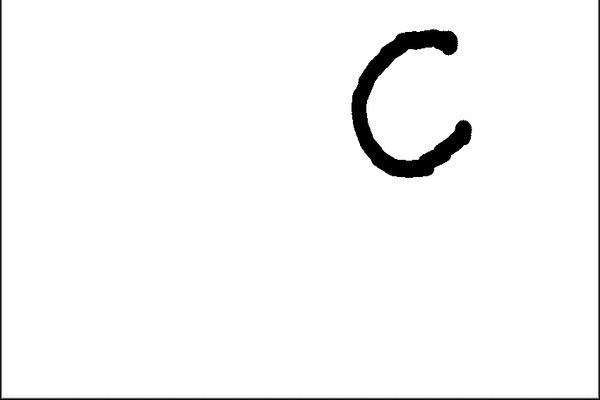C: (345, 22, 478, 180)
